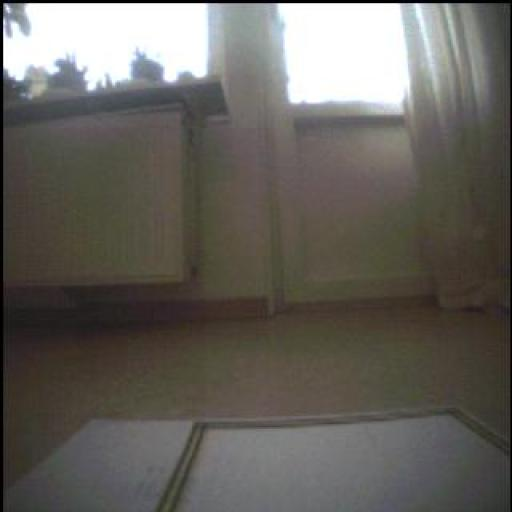Pad: (1, 403, 509, 512)
